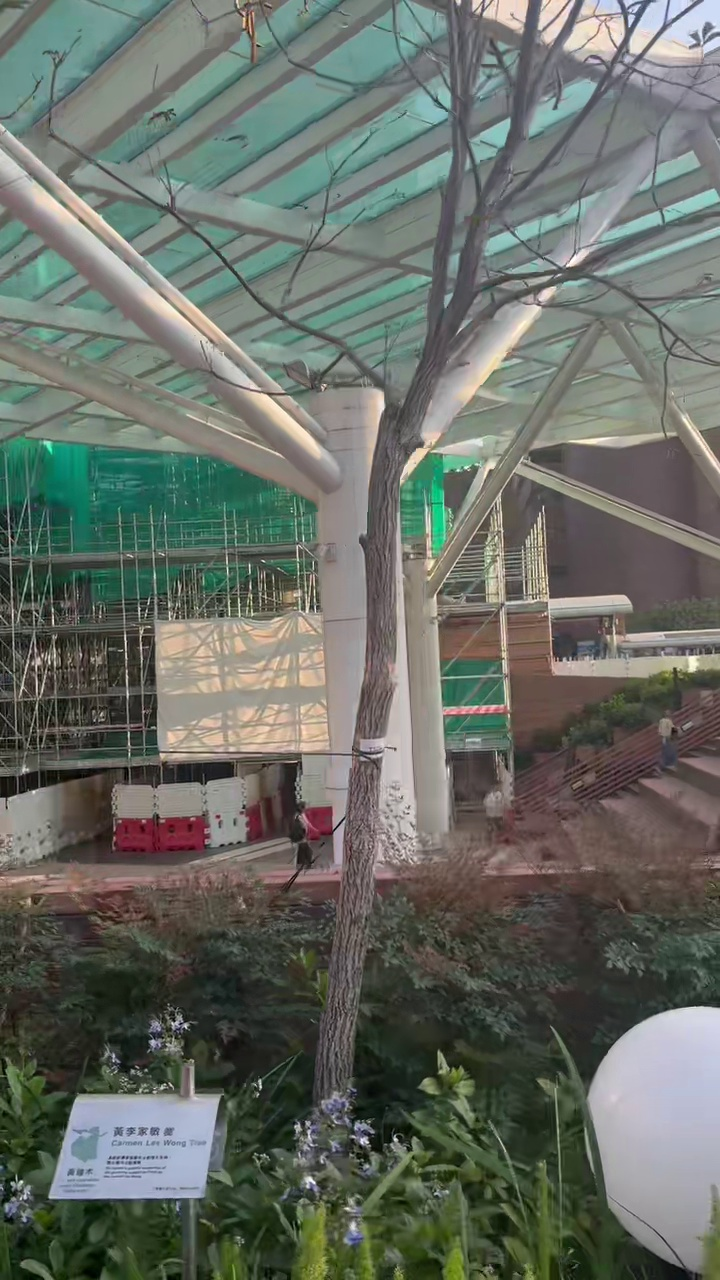Tabebuia chrysantha: (314, 0, 581, 1102)
